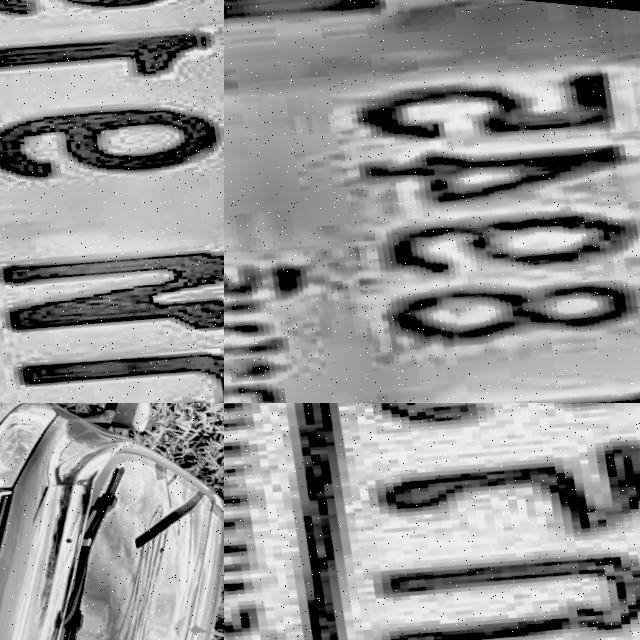license-plate: (224, 0, 640, 403), (224, 403, 640, 640), (0, 0, 224, 403)
